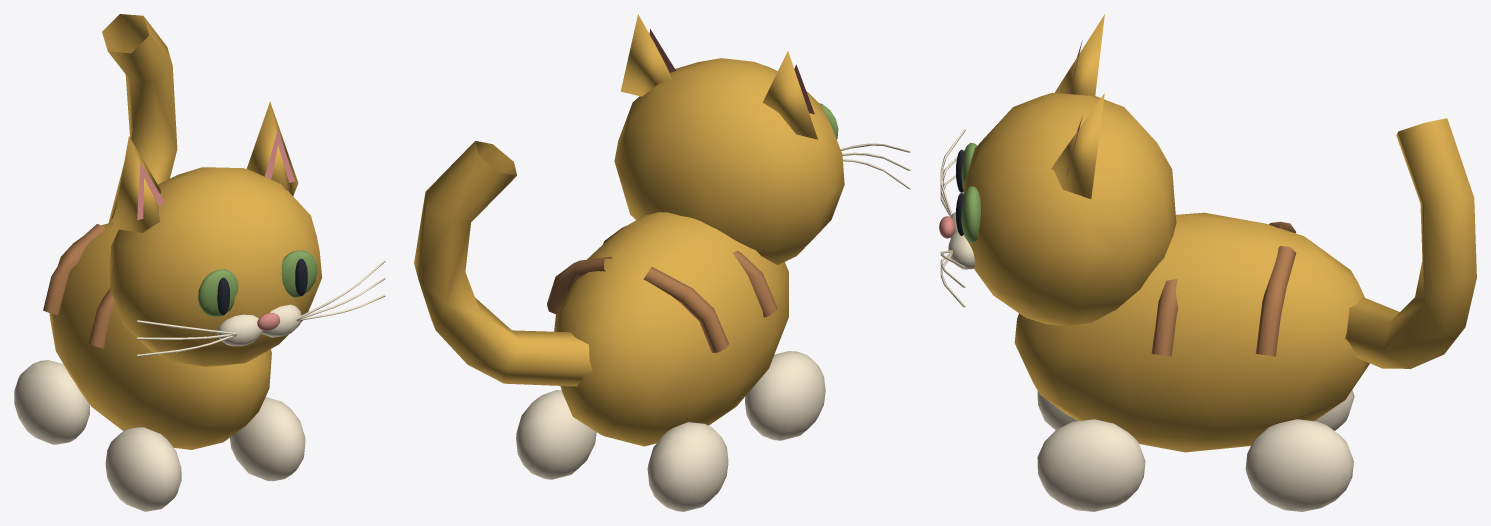
File: cat.glb
3 renders of one model, left to right at view 1: azimuth 30°, elevation 25°; view 2: azimuth 150°, elevation 25°; view 3: azimuth 270°, elevation 25°, orthographic. The views are drawn at different scales.
Parts seen in each view (by area): view 1: Crafted_gold, Crafted_cream, Crafted_wood, Crafted_lightleaf, Crafted_pink, Crafted_ink; view 2: Crafted_gold, Crafted_cream, Crafted_wood; view 3: Crafted_gold, Crafted_cream, Crafted_wood, Crafted_lightleaf.
Boxes of the visible parts, left/top/right/bottom form: Crafted_gold: left=49, top=14, right=322, bottom=449; Crafted_cream: left=14, top=260, right=385, bottom=511; Crafted_wood: left=43, top=224, right=114, bottom=348; Crafted_lightleaf: left=198, top=250, right=317, bottom=316; Crafted_pink: left=137, top=129, right=295, bottom=330; Crafted_ink: left=217, top=258, right=307, bottom=315; Crafted_gold: left=414, top=14, right=844, bottom=446; Crafted_cream: left=516, top=143, right=910, bottom=511; Crafted_wood: left=547, top=225, right=777, bottom=352; Crafted_gold: left=963, top=14, right=1476, bottom=452; Crafted_cream: left=940, top=129, right=1354, bottom=511; Crafted_wood: left=1151, top=221, right=1296, bottom=356; Crafted_lightleaf: left=961, top=142, right=980, bottom=242.
Size of the model in its own units: 0.7341 by 1.02 by 1.19.
